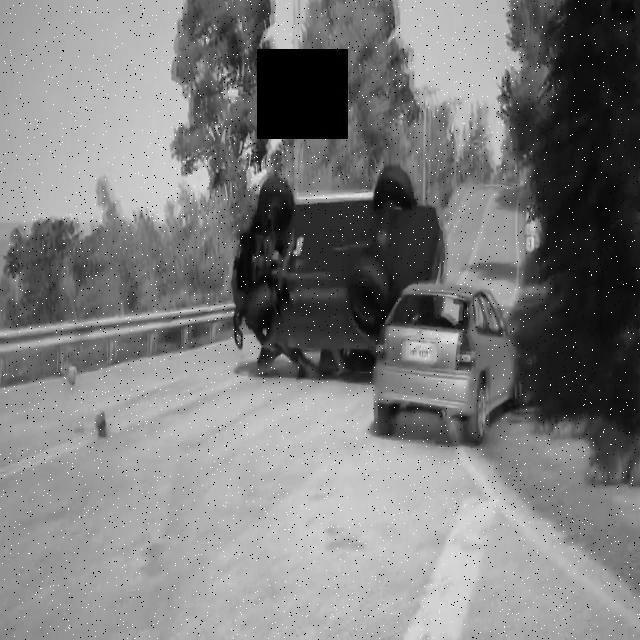accident: (229, 169, 523, 442)
vehicle: (373, 282, 520, 445)
